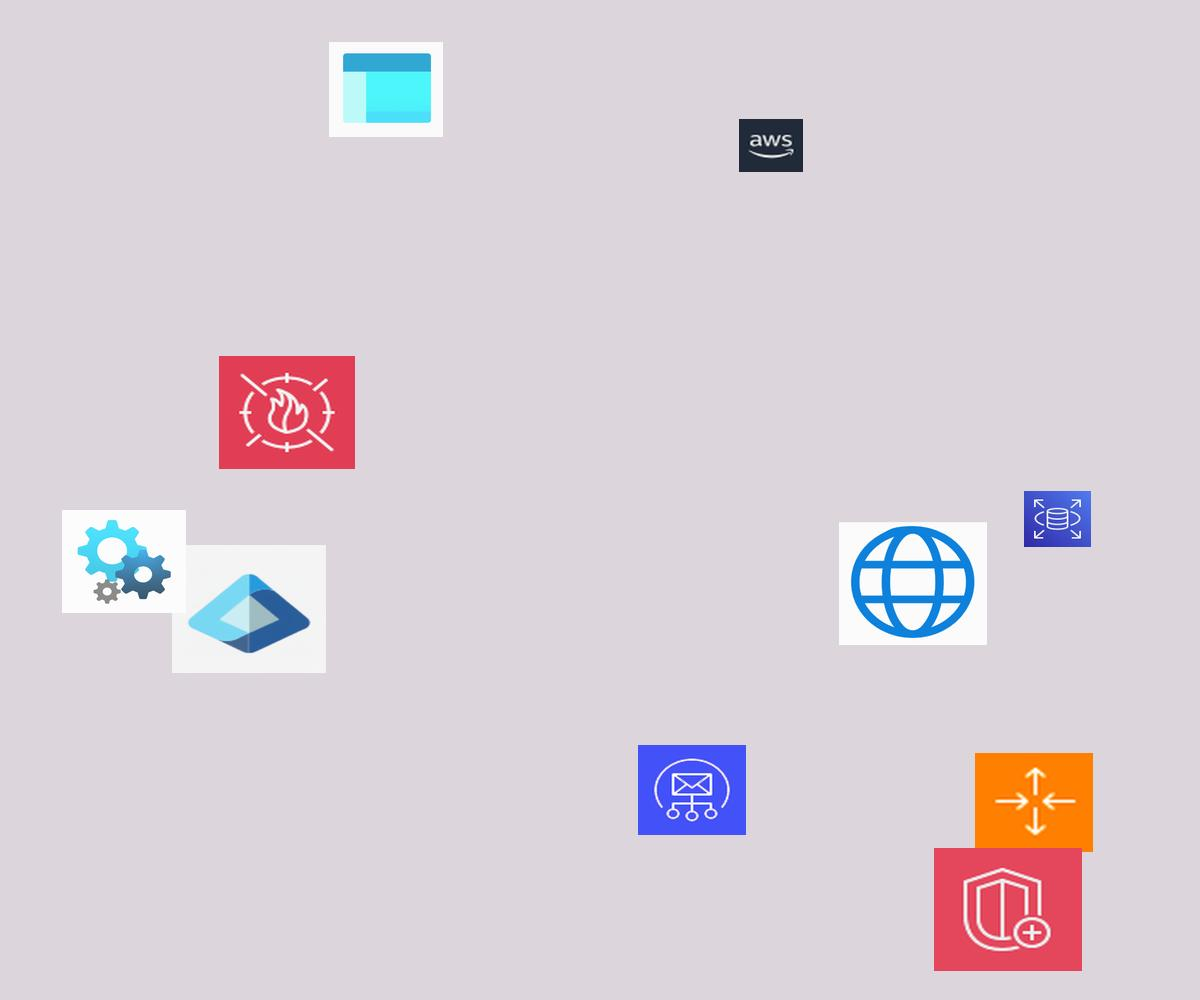AWS-Cloud-logo: (739, 119, 803, 172)
AWS-RDS: (1024, 491, 1091, 547)
AWS-Scaling-group: (975, 753, 1093, 852)
AWS-Shield: (934, 848, 1082, 971)
AWS-Simple-Email-Service: (638, 745, 746, 835)
AWS-WAF: (219, 356, 355, 469)
Azure_api: (62, 510, 186, 613)
Azure_http: (839, 522, 987, 645)
Azure_management-portal: (329, 42, 443, 137)
Azure_microsoft_entra: (172, 545, 326, 673)
